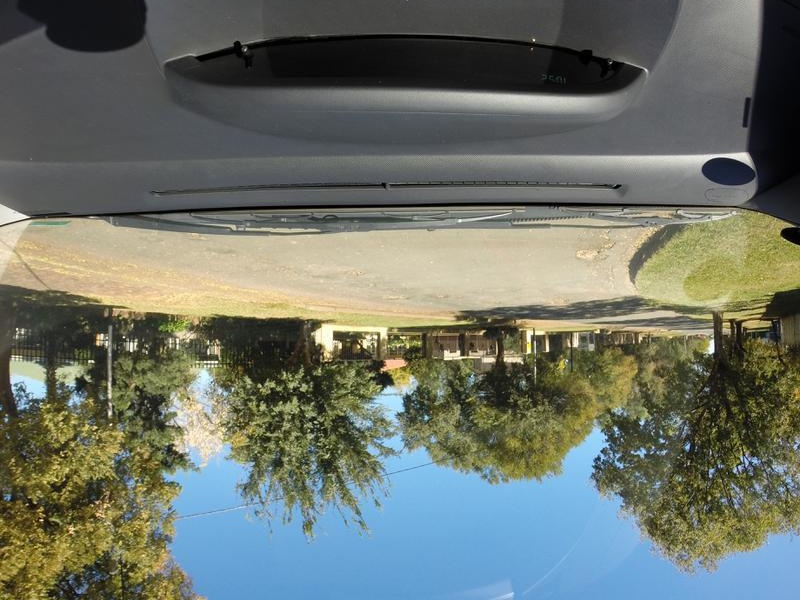pothole: (571, 233, 615, 265), (337, 265, 369, 276), (185, 233, 206, 247), (426, 291, 448, 302), (382, 296, 409, 304)
